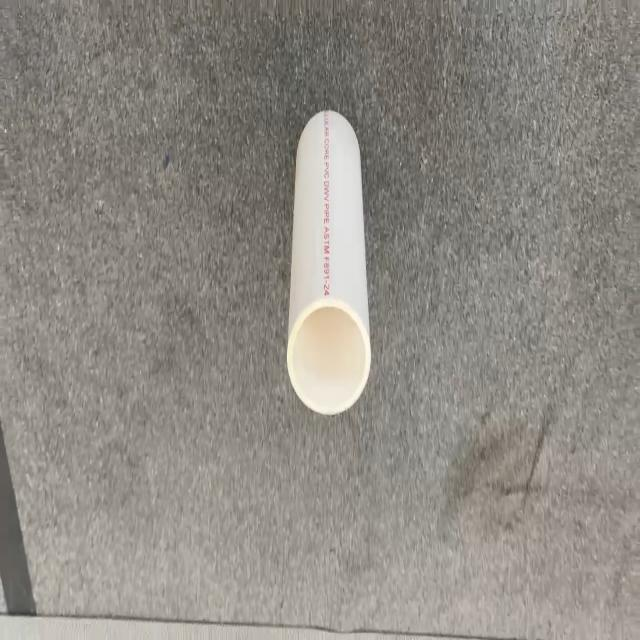coral: (286, 108, 372, 415)
